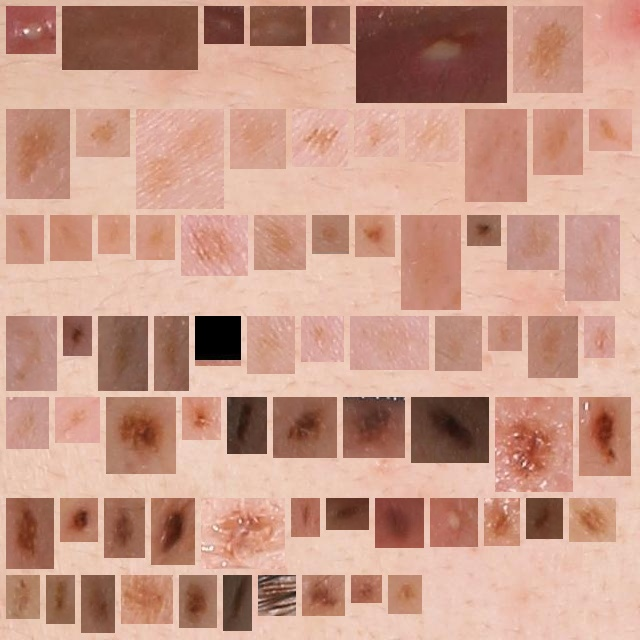hypertrophic_scar: (70, 14, 190, 62), (258, 14, 298, 38)
melasma: (144, 117, 216, 201), (521, 14, 575, 85), (14, 117, 62, 191), (473, 117, 519, 194), (409, 223, 453, 302), (573, 223, 612, 293), (358, 324, 421, 362), (189, 223, 240, 268), (14, 324, 49, 383), (106, 324, 140, 383), (238, 117, 278, 161), (541, 117, 575, 167), (300, 117, 340, 159), (536, 324, 570, 370), (413, 117, 451, 154), (262, 223, 298, 262), (515, 223, 551, 262), (255, 324, 287, 366), (84, 117, 122, 149), (443, 324, 474, 363), (162, 324, 181, 383), (14, 405, 41, 441), (362, 117, 391, 149), (63, 405, 92, 435), (309, 324, 336, 354), (58, 223, 84, 253), (14, 223, 36, 256), (597, 117, 624, 143), (144, 223, 167, 252), (363, 223, 387, 249), (320, 223, 341, 246), (592, 324, 607, 350), (106, 223, 122, 246), (496, 324, 514, 343)
nevus: (503, 405, 565, 484), (209, 506, 277, 561), (114, 405, 168, 466), (419, 405, 481, 455), (587, 405, 623, 468), (281, 405, 329, 450), (351, 405, 397, 450), (14, 506, 46, 561), (159, 506, 187, 557), (129, 583, 165, 616), (383, 506, 416, 540), (112, 506, 137, 550), (235, 405, 259, 446), (577, 506, 608, 534), (187, 583, 209, 620), (89, 583, 107, 625), (310, 583, 337, 608), (492, 506, 512, 538), (190, 405, 213, 432), (68, 506, 90, 534), (266, 583, 288, 608), (534, 506, 555, 531), (231, 583, 244, 623), (14, 583, 32, 611), (334, 506, 361, 522), (54, 583, 67, 616), (396, 583, 414, 606), (71, 324, 84, 348), (299, 506, 312, 529), (475, 223, 493, 238), (359, 583, 374, 595)
pustule: (364, 14, 499, 95), (14, 14, 48, 46), (438, 506, 470, 539), (212, 14, 236, 36), (320, 14, 342, 36)
